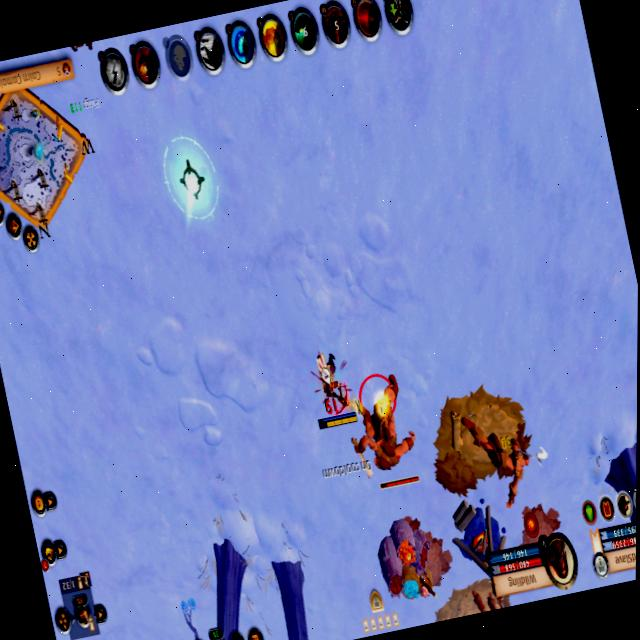ore: (337, 367, 426, 496)
red: (300, 342, 362, 436)
